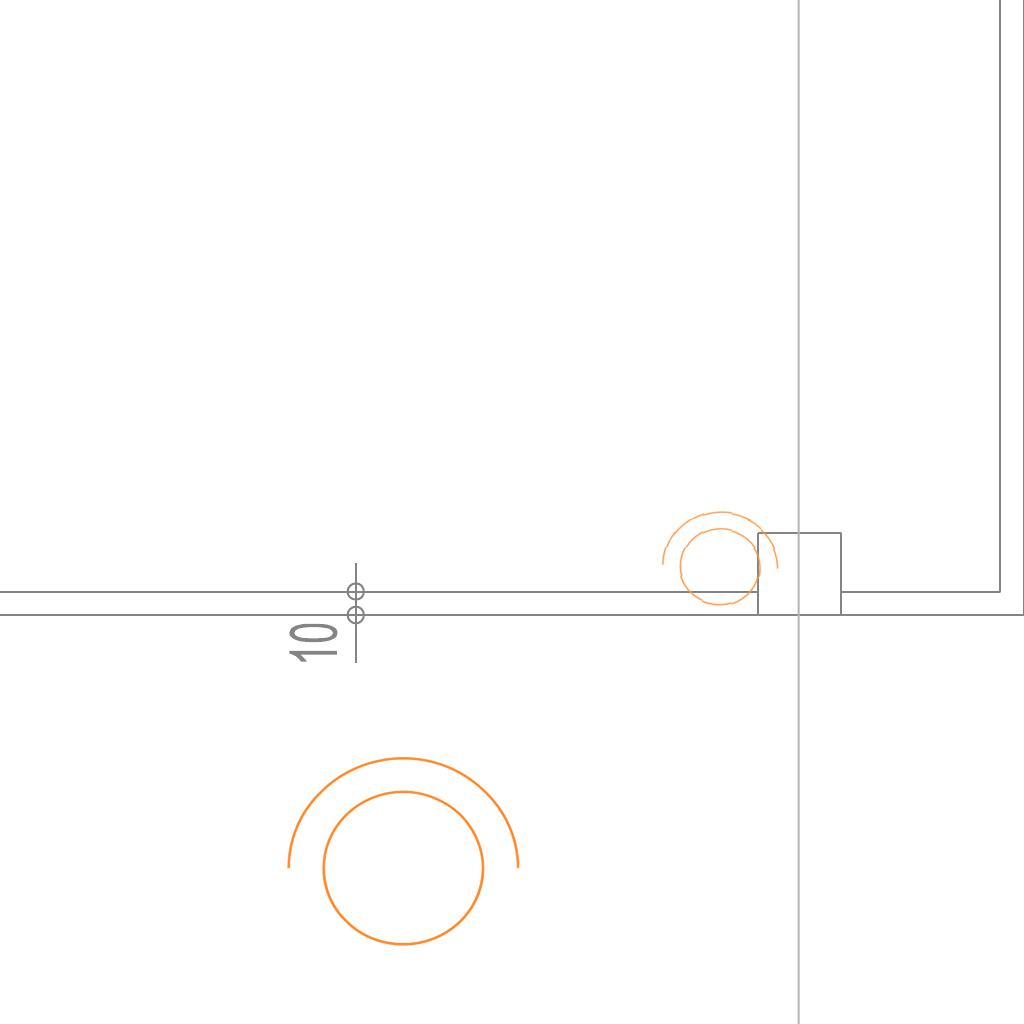Scheinwerfer_fuer_Alarmbeleuchtung: (265, 746, 529, 971), (649, 503, 785, 621)
